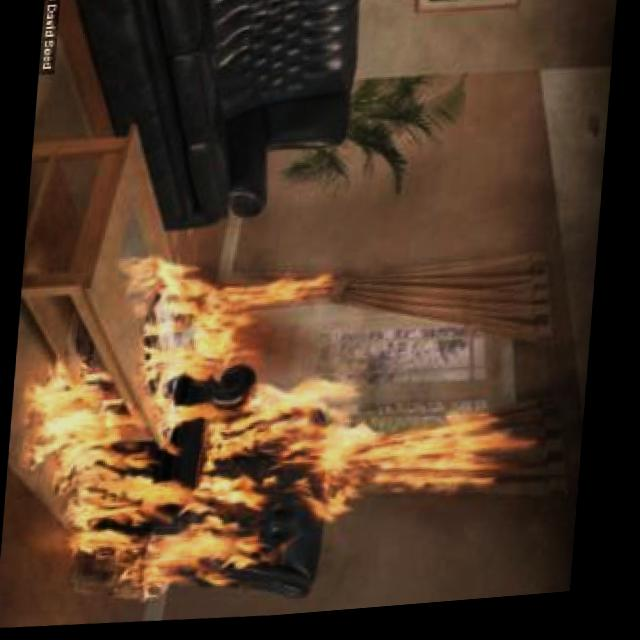Fire: (8, 235, 378, 620), (365, 394, 553, 520)
